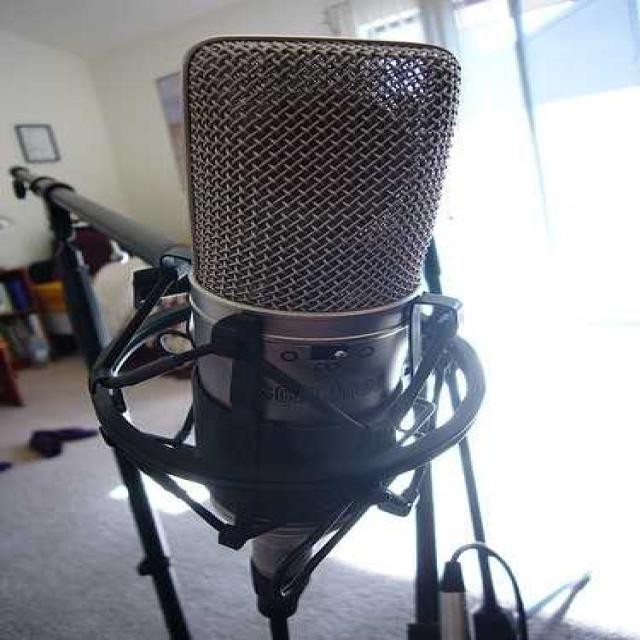microphone: (161, 35, 460, 581)
